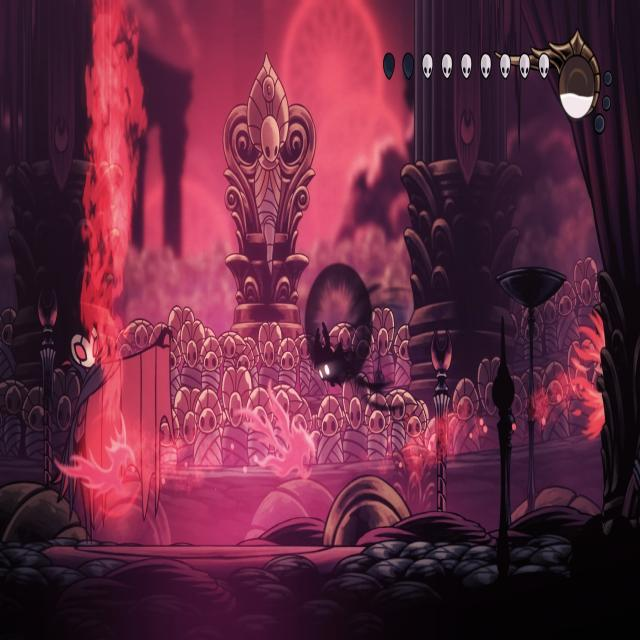Fire Bat: (55, 407, 139, 502), (244, 390, 314, 478), (569, 308, 603, 440)
Open Cloak: (56, 306, 180, 549)
Player: (311, 318, 352, 392)
